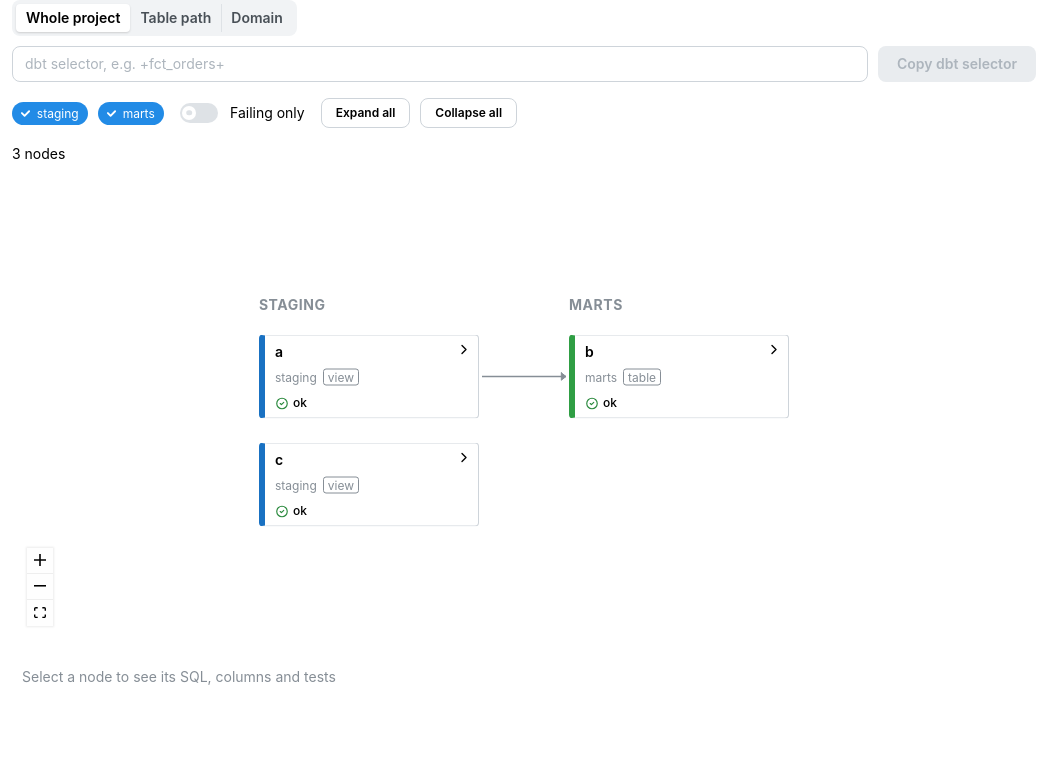
Test: LineageScreen › column lineage › Expand all expands the nodes shown
Expected: the text "3 nodes" is shown, [12,145,65,162]
Click the button "Expand all": coordinates (366, 113) [321,98,410,128]
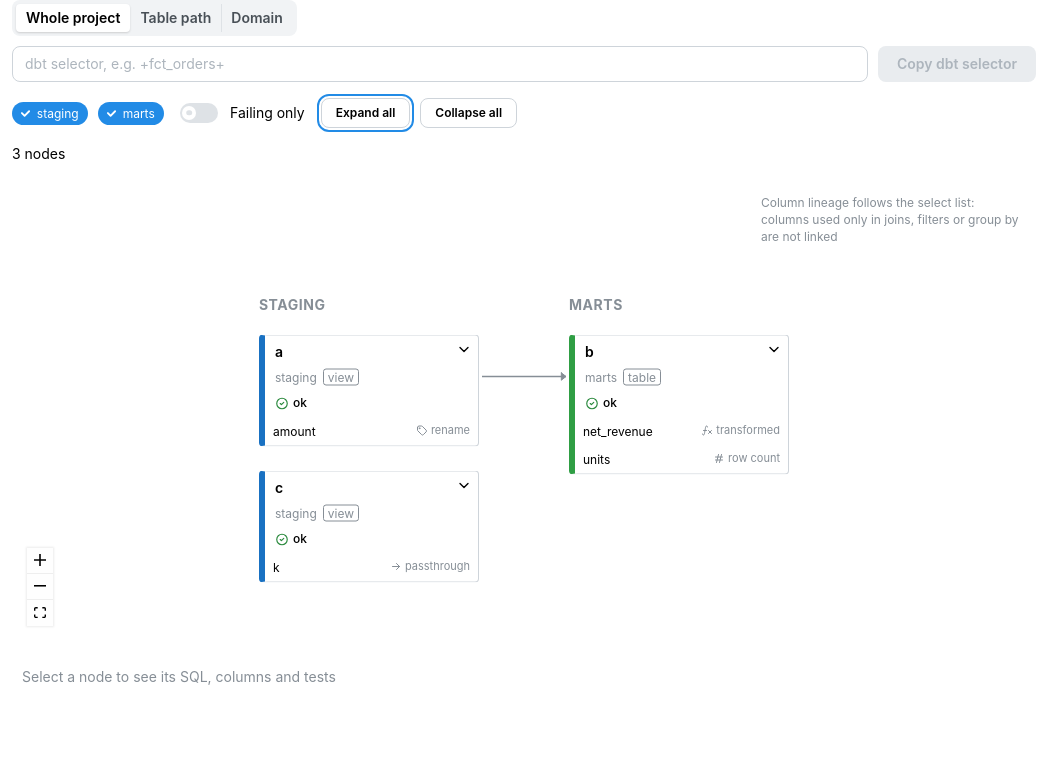
Now the button "amount rename" is shown, box [265,418,478,446]
Now the button "net_revenue transformed" is shown, box [575,418,788,446]
Now the button "units row count" is shown, box [575,446,788,474]
